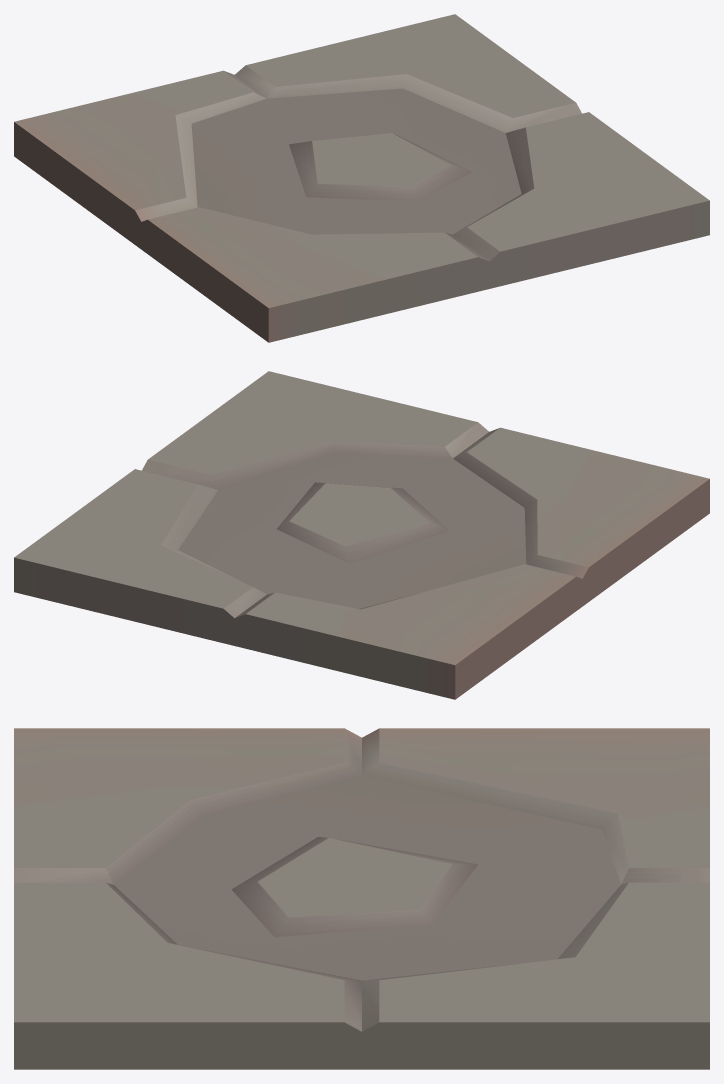
File: floor_tile_small_broken_A.glb
3 renders of one model, top to bottom at view 1: azimuth 30°, elevation 25°; view 2: azimuth 150°, elevation 25°; view 3: azimuth 270°, elevation 25°, orthographic. The views are drawn at different scales.
Parts seen in each view (by area): view 1: floor_tile_small_broken_A; view 2: floor_tile_small_broken_A; view 3: floor_tile_small_broken_A.
Boxes of the visible parts, x1=… form: floor_tile_small_broken_A: x1=14, y1=14, x2=709, y2=342; floor_tile_small_broken_A: x1=14, y1=371, x2=709, y2=699; floor_tile_small_broken_A: x1=14, y1=728, x2=709, y2=1069.
Size of the model in its own units: 2 by 0.1499 by 2.
1 material, 1 textured.
